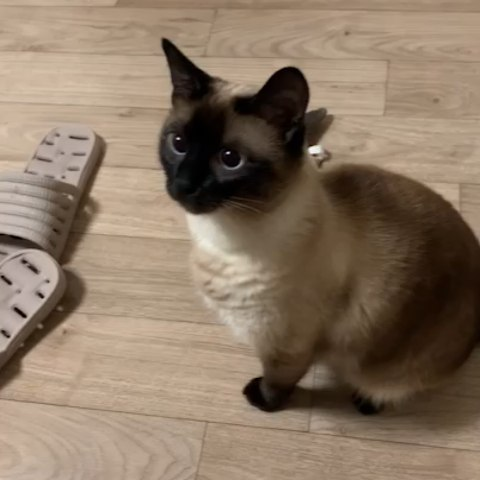cat: (154, 36, 315, 222)
